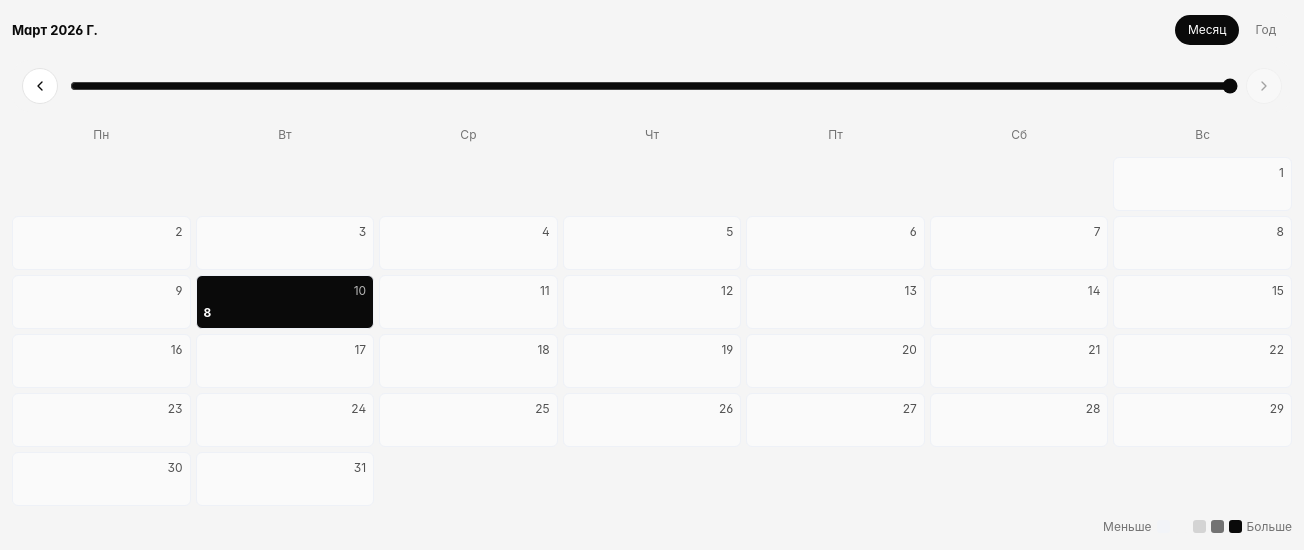
ActivityCalendar › lets the user select any month from the requested period
Set the slider named "Month" to "0" at (78, 86), box top-left (70, 78), bottom-right (1238, 94)
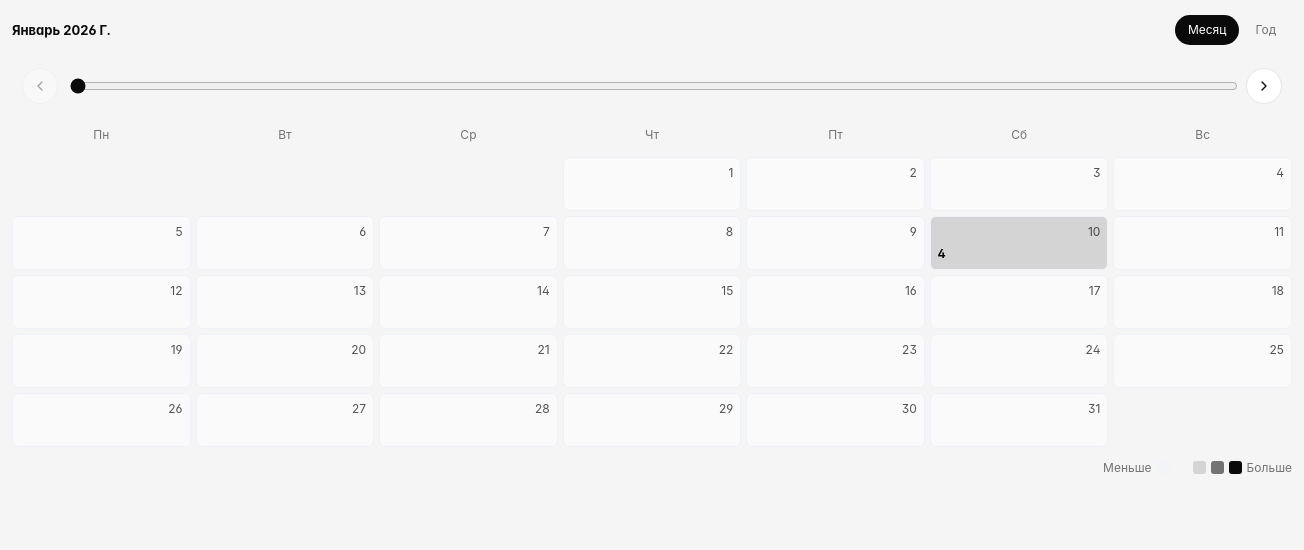
Expected: the text "январь 2026 г." is shown, top-left (12, 21), bottom-right (111, 39)
